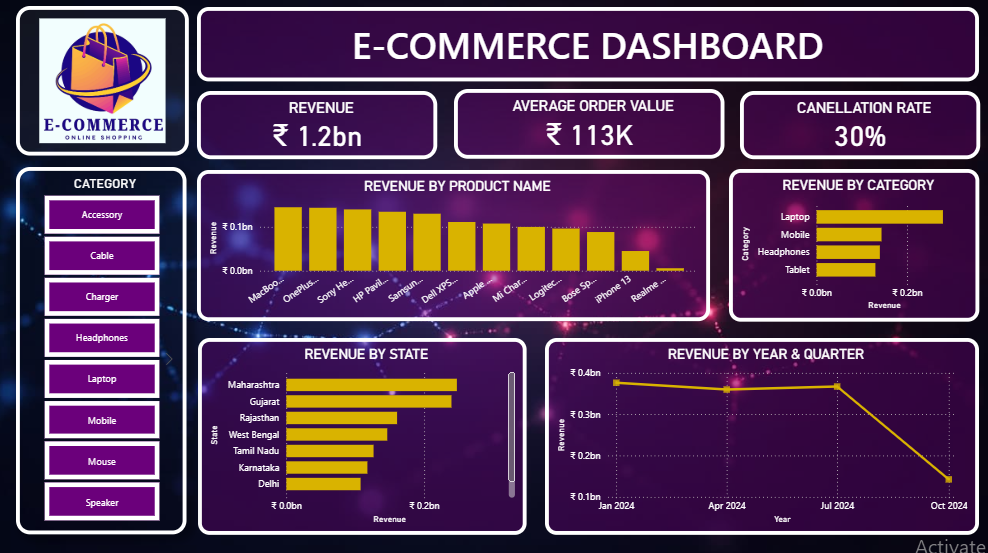

What the dashboard file says about the page in this screenshot:
{"tool":"powerbi","page":{"name":"Page 1","canvas":[1280,720],"ordinal":0},"visuals":[{"type":"group","id":"g1","title":"Group 1","box":[257.1,121.4,1011.4,91.4],"z":0},{"type":"card","title":"REVENUE","fields":{"Values":["Table.Revenue"]},"box":[257.1,124.4,310.4,88.4],"z":0,"group":"g2"},{"type":"textbox","box":[257.1,15.7,1008.6,95.7],"z":1000},{"type":"card","title":"AVERAGE ORDER VALUE","fields":{"Values":["Table.Avg_order_value"]},"box":[589,121.4,349.1,89.9],"z":1000,"group":"g2"},{"type":"image","box":[22.9,14.3,222.9,192.9],"z":2000},{"type":"card","title":"CANELLATION RATE","fields":{"Values":["Table.Cancellation_rate"]},"box":[958.1,124.4,310.4,88.4],"z":2000,"group":"g2"},{"type":"columnChart","title":"REVENUE BY PRODUCT NAME","fields":{"Category":["Products.Product Name"],"Y":["Table.Revenue"]},"box":[257.1,226.4,661.7,195],"z":3000,"group":"g3"},{"type":"clusteredBarChart","title":"REVENUE BY CATEGORY","fields":{"Category":["Products.Category"],"Y":["Table.Revenue"]},"box":[943.8,224.7,323.3,196.7],"z":4000,"group":"g3"},{"type":"lineChart","title":"REVENUE BY YEAR & QUARTER","fields":{"Category":["Orders.Date and time of purchase.Variation.Date Hierarchy.Year","Orders.Date and time of purchase.Variation.Date Hierarchy.Quarter","Orders.Date and time of purchase.Variation.Date Hierarchy.Month","Orders.Date and time of purchase.Variation.Date Hierarchy.Day"],"Y":["Table.Revenue"]},"box":[706,442,560,254],"z":5000},{"type":"clusteredBarChart","title":"REVENUE BY STATE","fields":{"Category":["Customers.State"],"Y":["Table.Revenue"]},"box":[258,442,424,254],"z":6000},{"type":"slicer","title":"CATEGORY","fields":{"Values":["Products.Category"]},"box":[22.9,221.4,220,474.3],"z":7000},{"type":"group","id":"g2","title":"Group 2","box":[257.1,121.4,1011.4,91.4],"z":7001,"group":"g1"},{"type":"group","id":"g3","title":"Group 3","box":[257.1,224.7,1010,196.7],"z":7001}]}

Visuals, with their boxes in screenshot pixels (x1, y1, x2, y2), scaled from the page's 1280x720 canvas onto the 988x553 screenshot:
"Group 1" group: <bbox>198, 93, 979, 163</bbox>
"REVENUE" card: <bbox>198, 96, 438, 163</bbox>
textbox: <bbox>198, 12, 977, 86</bbox>
"AVERAGE ORDER VALUE" card: <bbox>455, 93, 724, 162</bbox>
image: <bbox>18, 11, 190, 159</bbox>
"CANELLATION RATE" card: <bbox>740, 96, 979, 163</bbox>
"REVENUE BY PRODUCT NAME" columnChart: <bbox>198, 174, 709, 324</bbox>
"REVENUE BY CATEGORY" clusteredBarChart: <bbox>728, 173, 978, 324</bbox>
"REVENUE BY YEAR & QUARTER" lineChart: <bbox>545, 339, 977, 535</bbox>
"REVENUE BY STATE" clusteredBarChart: <bbox>199, 339, 526, 535</bbox>
"CATEGORY" slicer: <bbox>18, 170, 187, 534</bbox>
"Group 2" group: <bbox>198, 93, 979, 163</bbox>
"Group 3" group: <bbox>198, 173, 978, 324</bbox>
